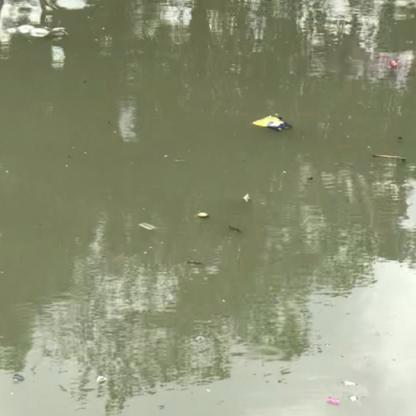Trash: (252, 108, 291, 138)
